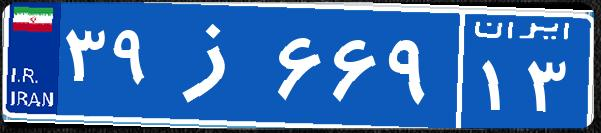1: (475, 38, 525, 113)
3: (57, 26, 110, 107), (525, 38, 570, 115)
6: (273, 28, 330, 110), (330, 28, 385, 110)
9: (385, 28, 445, 110), (110, 28, 158, 105)
ز: (158, 15, 273, 115)
